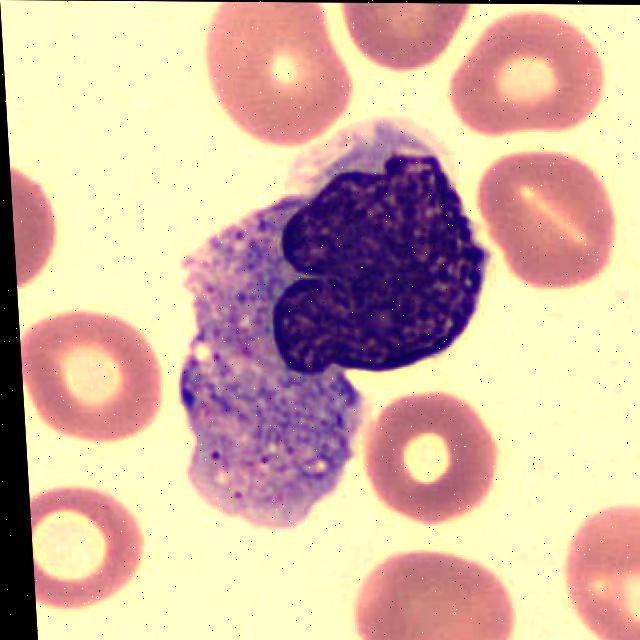monocyte: (139, 148, 508, 564)
rbc: (204, 2, 343, 145), (445, 23, 607, 138), (18, 311, 162, 438), (478, 153, 611, 289), (358, 404, 503, 525), (351, 553, 509, 640), (29, 494, 146, 605), (568, 501, 640, 640), (341, 3, 469, 69), (10, 170, 57, 295)
